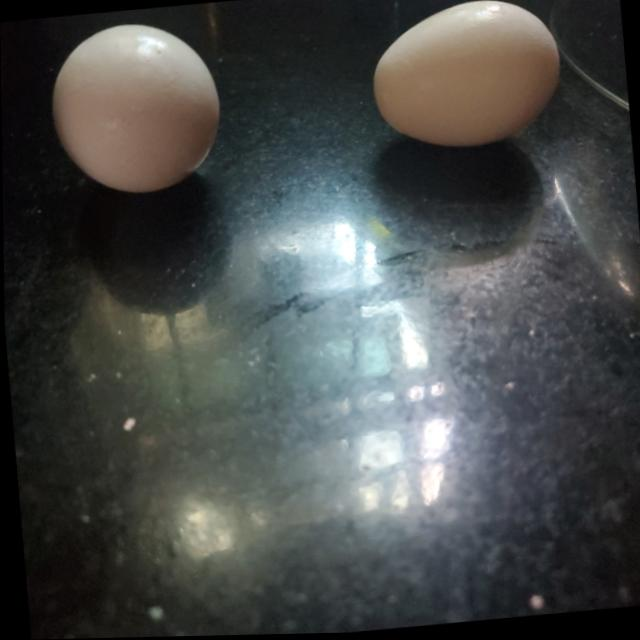egg: (47, 12, 228, 195), (371, 0, 568, 158)
